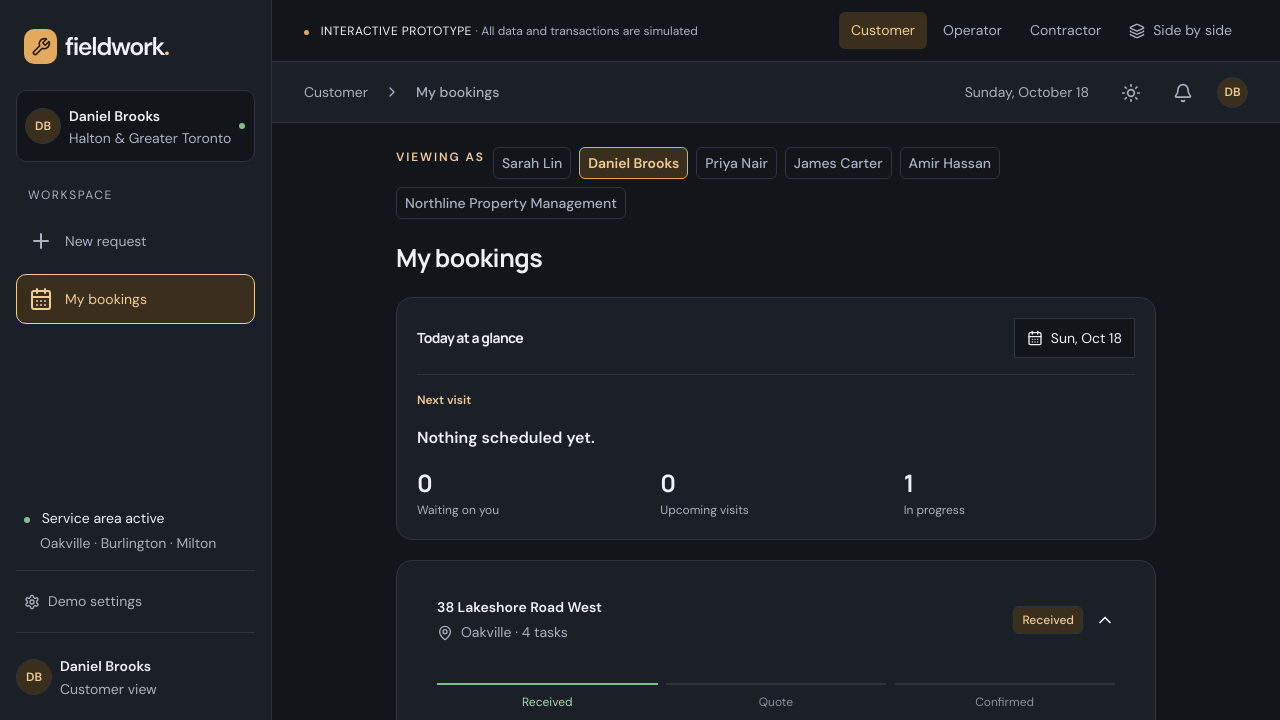
Test: Customer workspace › views the portal as another customer
Click the button "Priya Nair" at (737, 163), box x1=696 y1=147 x2=777 y2=179
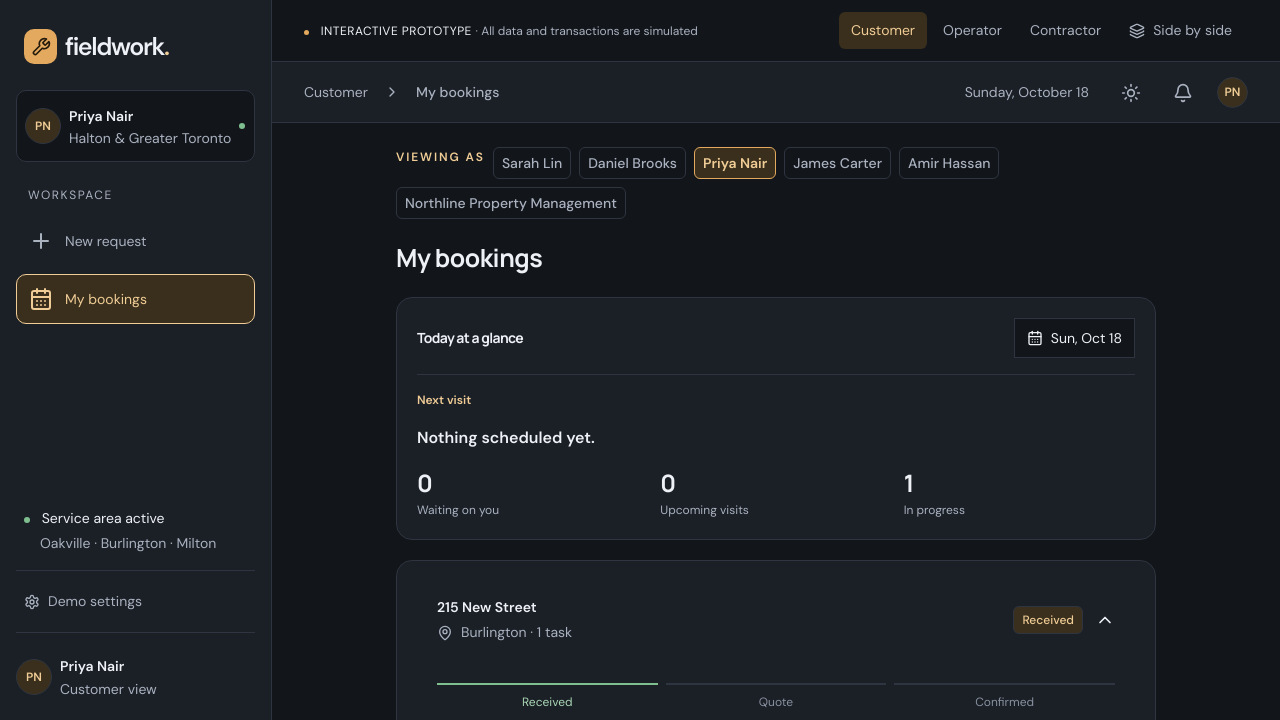
Now the button "215 New Street Burlington · 1 task Received" is shown, box x1=417 y1=581 x2=1135 y2=659
